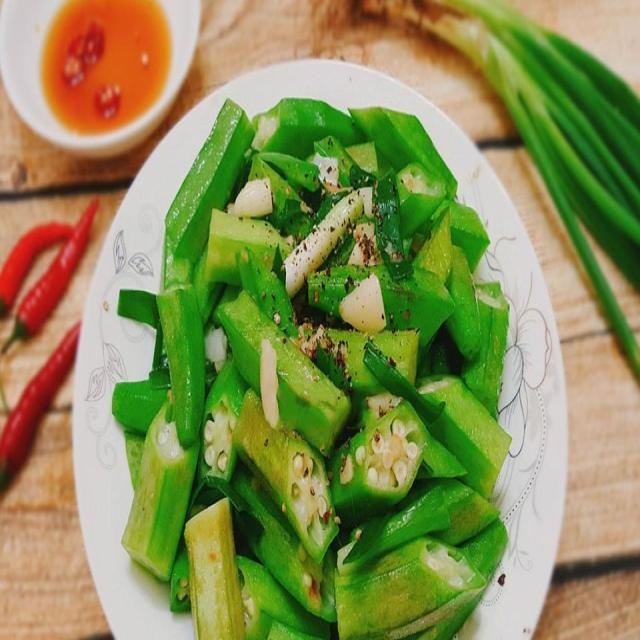bap coi luoc: (127, 88, 506, 637)
mam ot: (0, 0, 195, 135)
ot: (0, 202, 91, 506)
